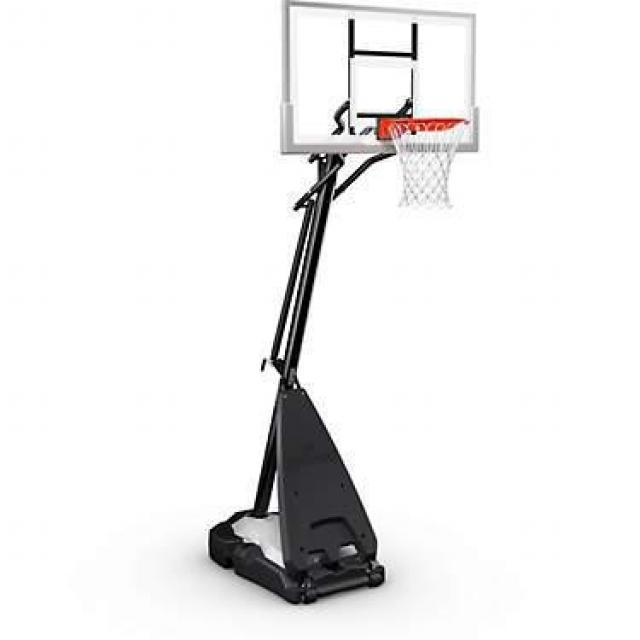hoop: (388, 118, 470, 212)
